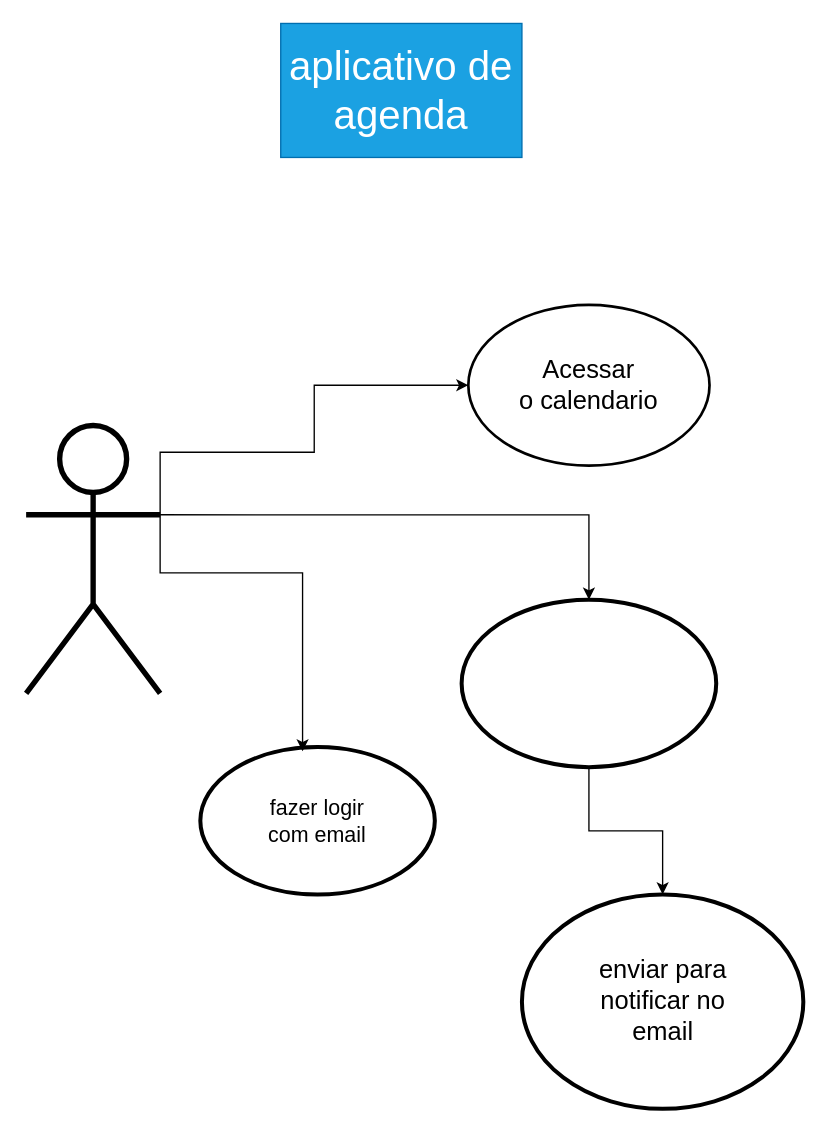
Some shapes in this 828 by 1134 pixel diagram are drawn without their labels. Each missing label, with the box of its shape:
agendar um compromisso: (459, 597, 718, 768)
usuario: (23, 422, 162, 695)
